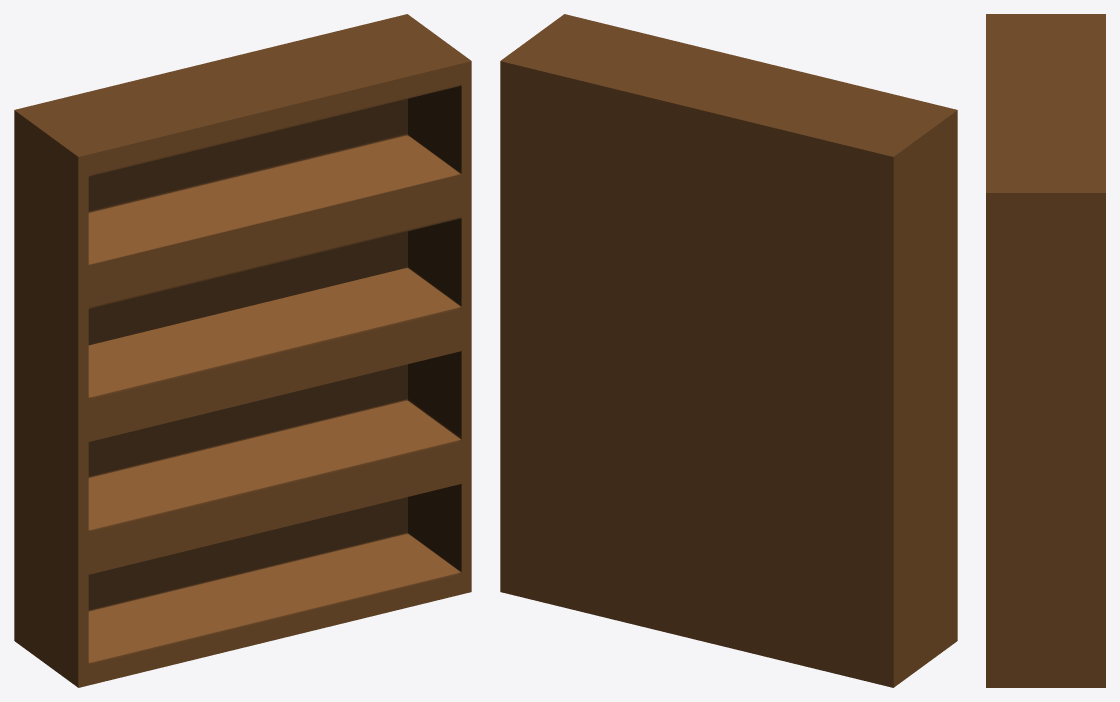
File: BookShelf.glb
3 views of the same model, side by side, from view 1: azimuth 30°, elevation 25°; view 2: azimuth 150°, elevation 25°; view 3: azimuth 270°, elevation 25° (orthographic). The views are drawn at different scales.
Visible parts, largest first — view 1: Cube; view 2: Cube; view 3: Cube.
Boxes of the visible parts, box(x1,y1,x2,y2) form: Cube: box(14, 14, 471, 687); Cube: box(500, 14, 957, 687); Cube: box(986, 14, 1105, 687).
Bounding box in the file's own units: 1.62 × 2.09 × 0.4579.
1 material, 1 textured.
